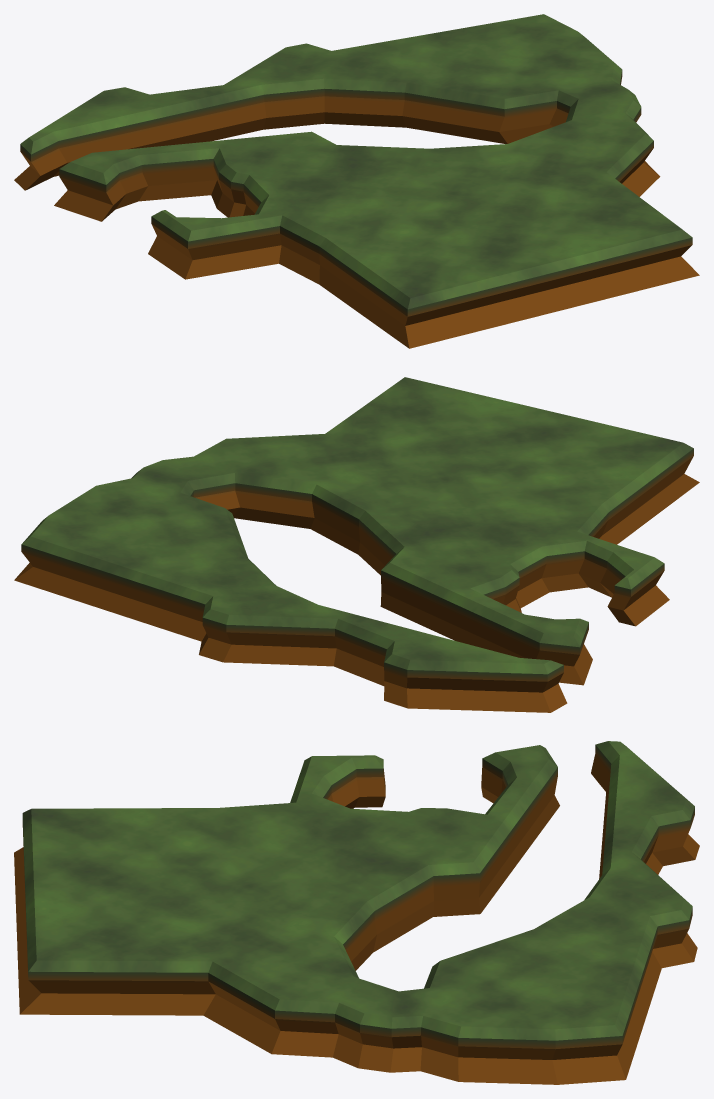
File: T6_Terreno_Lvl1_T.fbx
3 views of the same model, one above another, from view 1: azimuth 30°, elevation 25°; view 2: azimuth 150°, elevation 25°; view 3: azimuth 270°, elevation 25° (orthographic). The views are drawn at different scales.
Parts seen in each view (by area): view 1: T6_modelosBlockout_nivel1; view 2: T6_modelosBlockout_nivel1; view 3: T6_modelosBlockout_nivel1.
Part boxes in pixels (x1=…): T6_modelosBlockout_nivel1: x1=14, y1=14, x2=699, y2=348; T6_modelosBlockout_nivel1: x1=14, y1=377, x2=699, y2=712; T6_modelosBlockout_nivel1: x1=14, y1=741, x2=699, y2=1084.
Size of the model in its own units: 20836 by 1564 by 19995.
